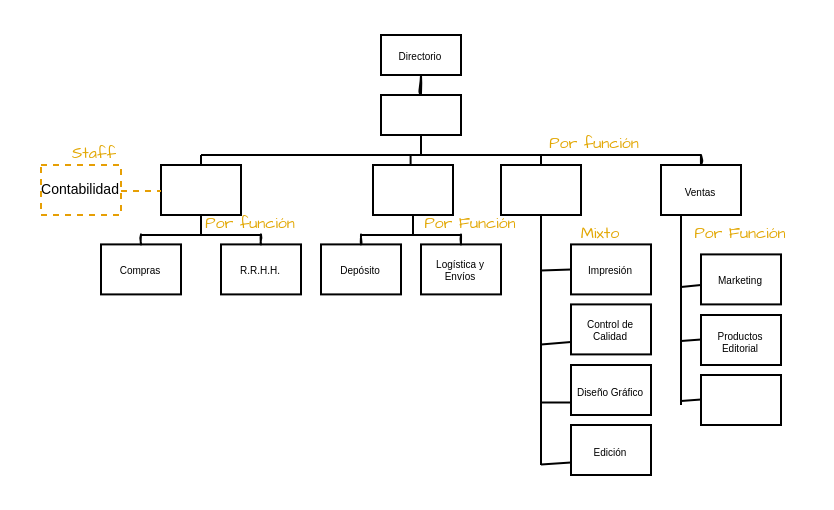
Some shapes in this 834 by 510 pixel diagram are drawn without their labels. The shapes that lost their labels are listed below. From the top down, each one's centre as x and y in pixels, then its label:
At point (420, 114): "Gerencia General".
At point (200, 189): "Administración".
At point (412, 189): "Almacén y logística".
At point (540, 189): "Producción".
At point (740, 399): "Fotocopiado".
